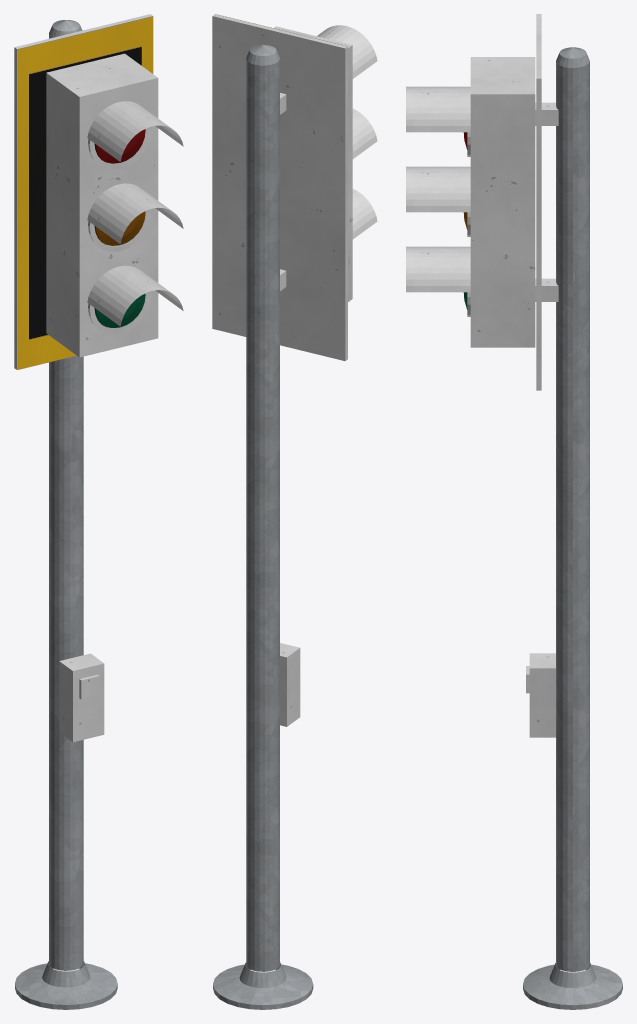
Rendered from TrafficLight.obj.
3 renders of one model, left to right at view 1: azimuth 30°, elevation 25°; view 2: azimuth 150°, elevation 25°; view 3: azimuth 270°, elevation 25°, orthographic. The views are drawn at different scales.
Visible parts, largest first — view 1: PaintBlack, Galvanised, Signs, PaintYellow, LensAmber, LensRed, LensGreen; view 2: PaintBlack, Galvanised, PaintYellow; view 3: Galvanised, PaintBlack, PaintYellow.
Boxes of the visible parts, x1,y1,x2,y2 form: PaintBlack: (14,14,183,699); Galvanised: (15,20,117,1009); Signs: (17,16,153,369); PaintYellow: (59,653,104,742); LensAmber: (94,211,145,245); LensRed: (94,129,145,163); LensGreen: (94,294,145,327); PaintBlack: (212,14,377,360); Galvanised: (213,44,313,1009); PaintYellow: (280,643,300,726); Galvanised: (523,47,622,1009); PaintBlack: (406,14,558,693); PaintYellow: (529,653,555,737).
Size of the model in its own units: 0.52 by 3.54 by 0.7375.
Materials: 7 (4 with a texture image).
